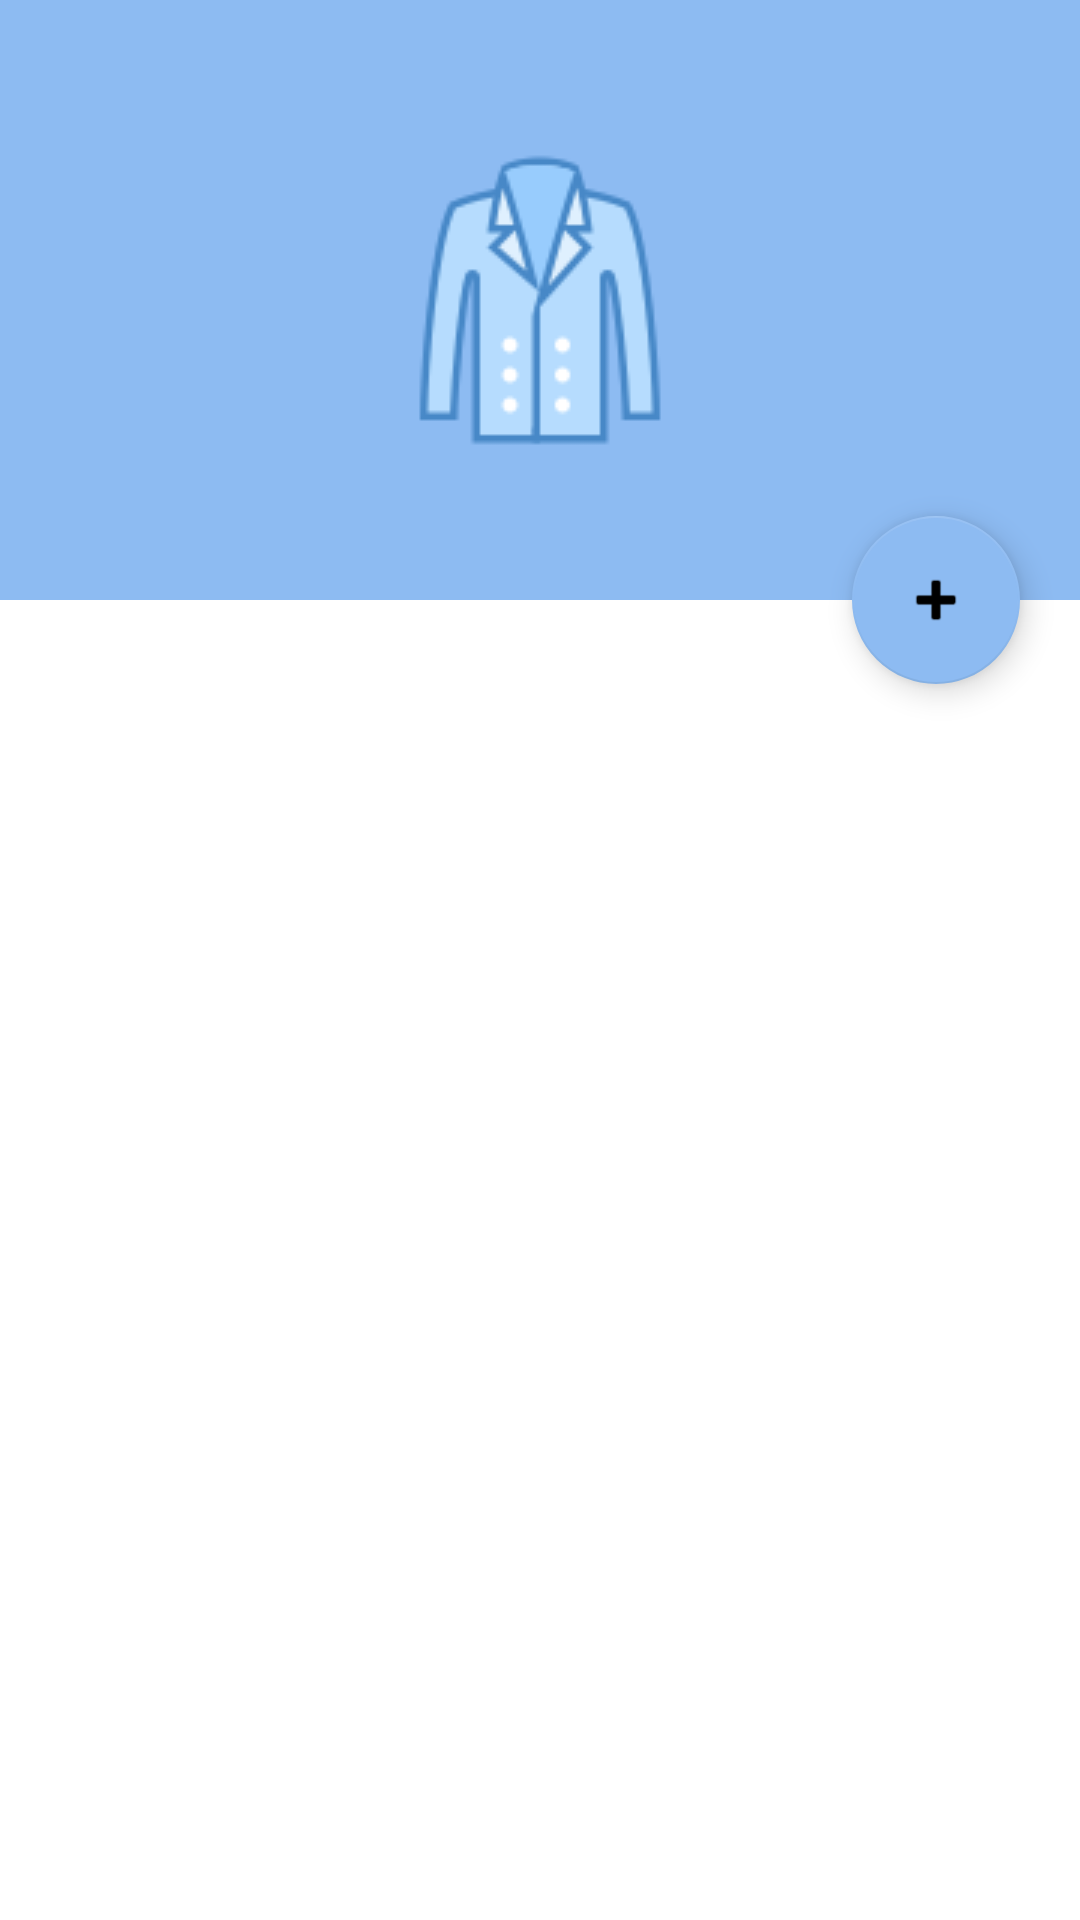

Where to tap for icons on this 1080x1920 app screen, as [x,y]:
add: [936,600]
